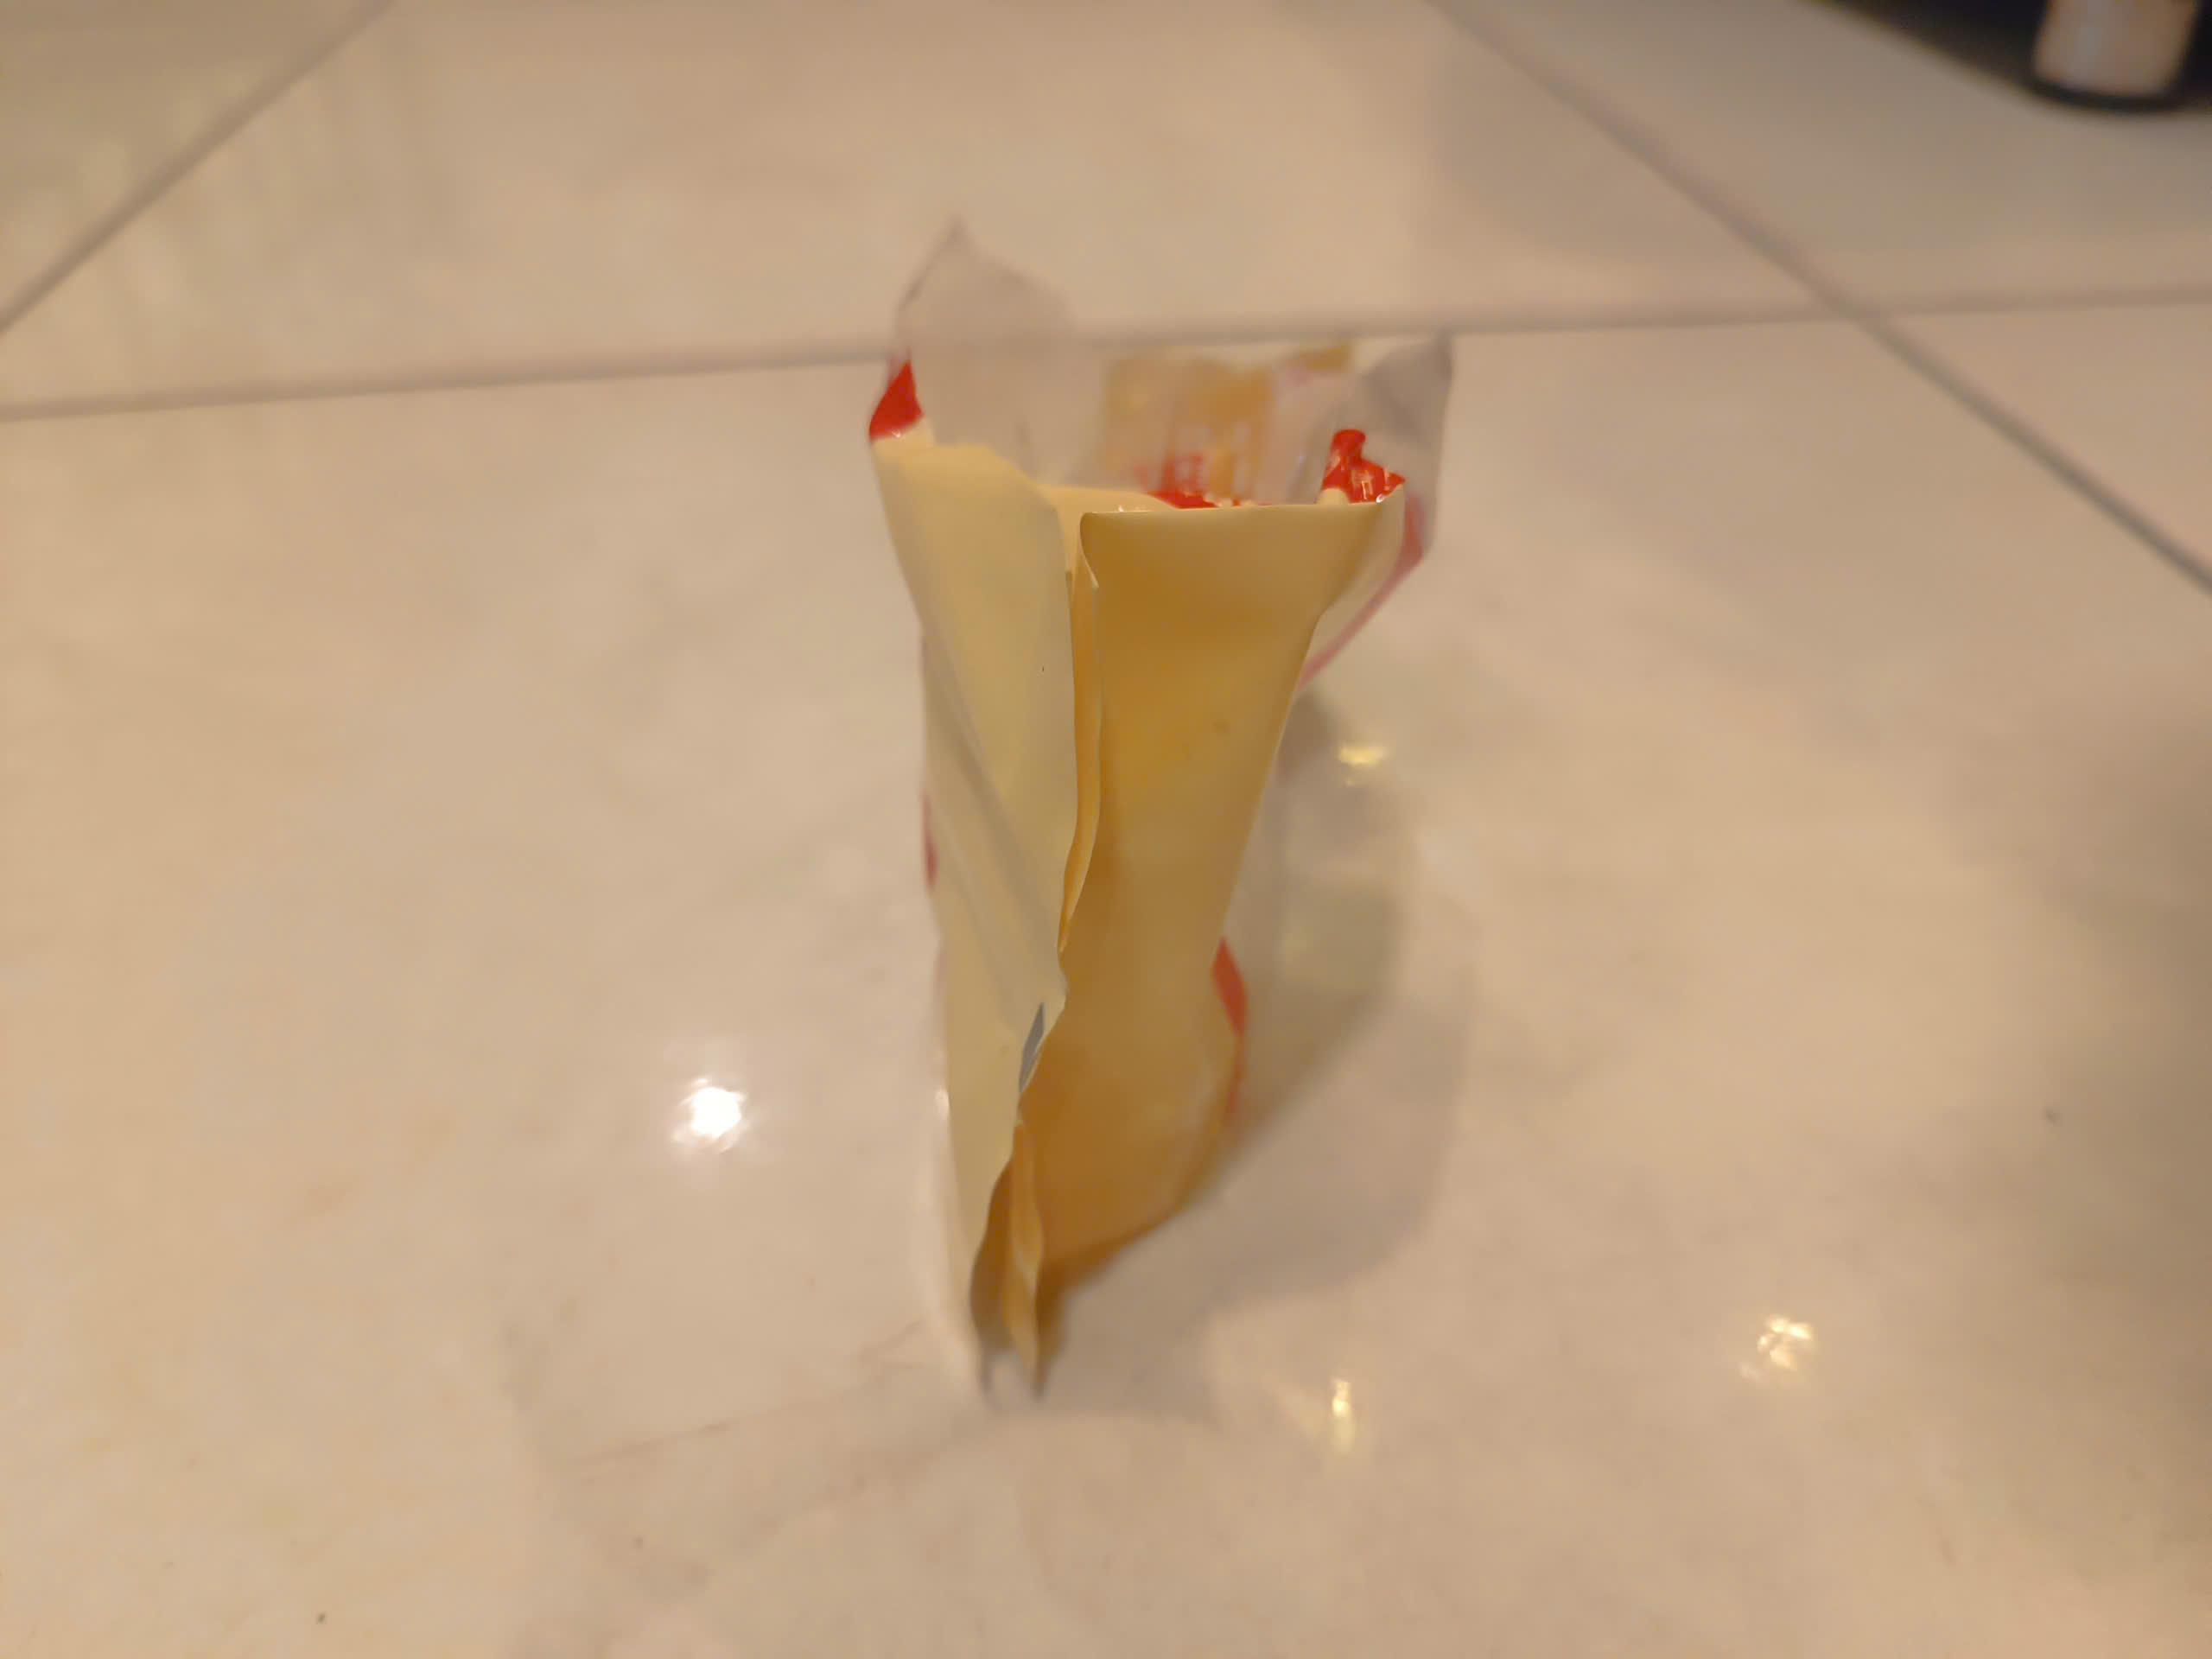Vo co: (859, 225, 1414, 1399)
